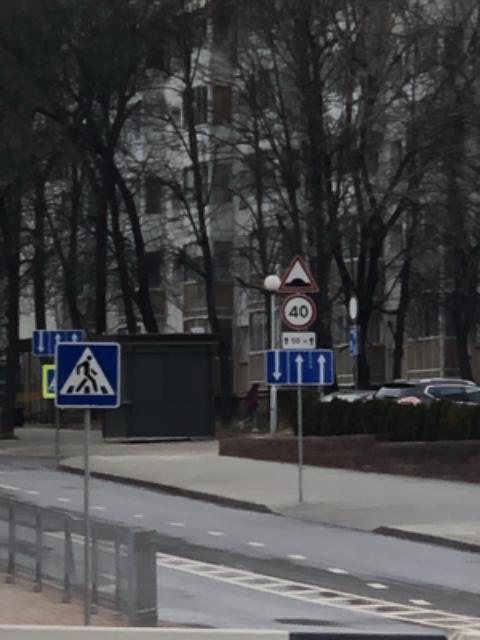crosswalk-sign: (52, 340, 122, 410)
